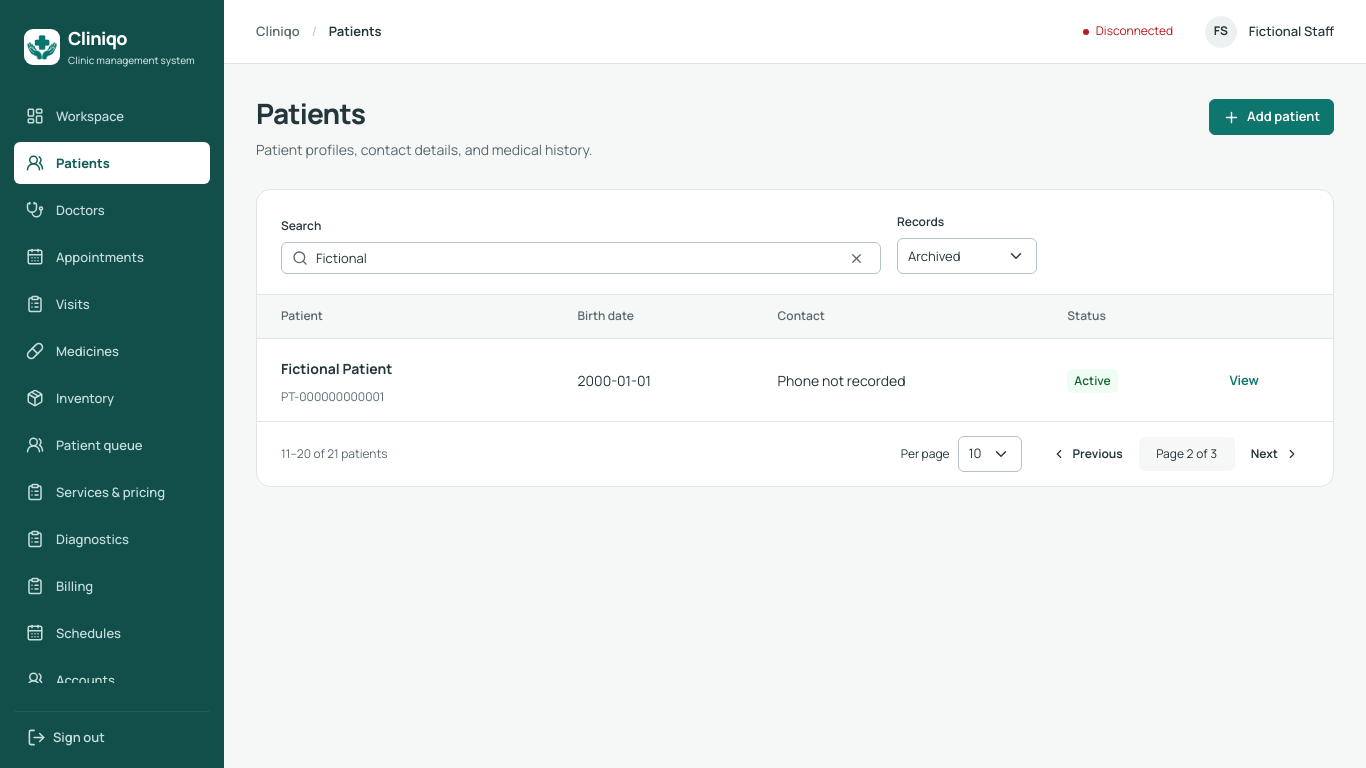
Test: patient and doctor workflows › clears an applied search from a later page while keeping the record filter and returning focus
expect the link "Fictional Patient" is shown: met, box [281,355,392,383]
Click the button named "Clear search input" at (856, 258), box [842,244,870,272]
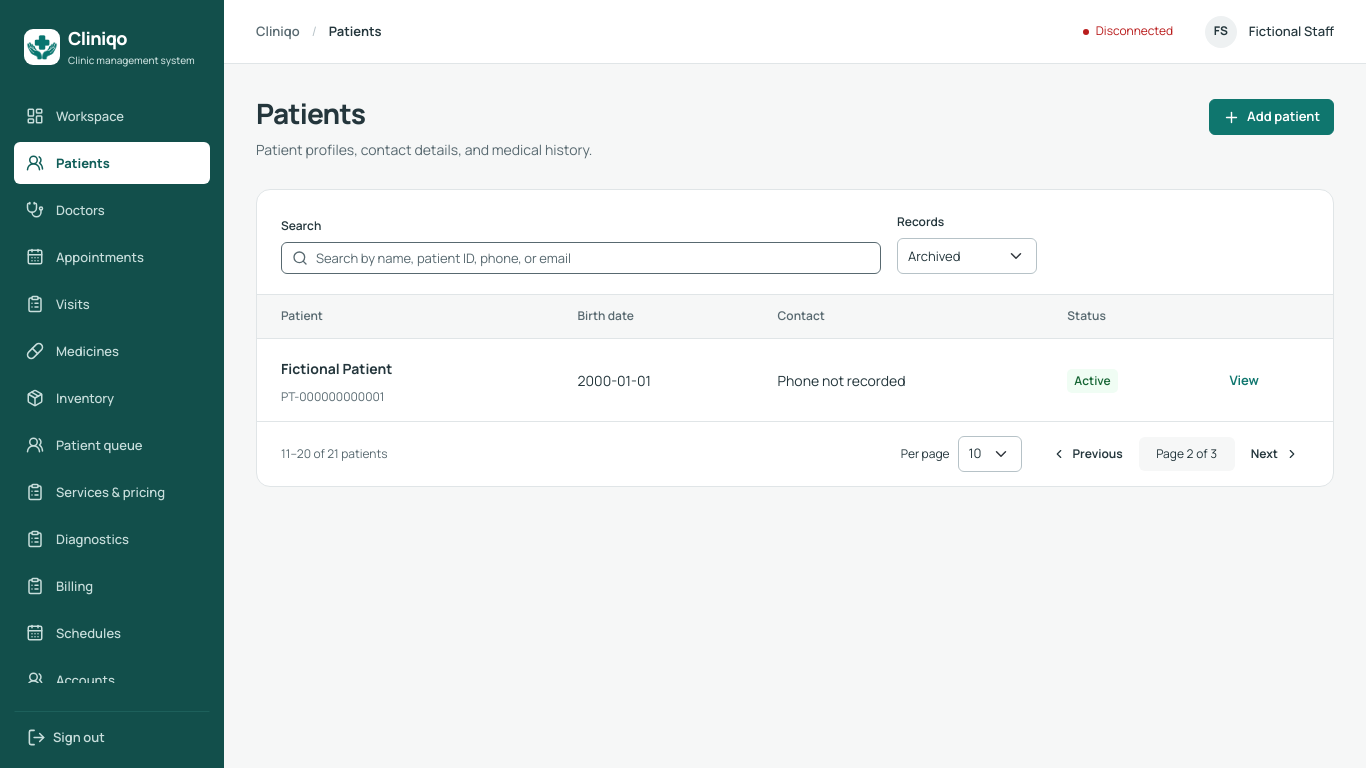
expect the search field is empty: met, box [316,243,870,273]
